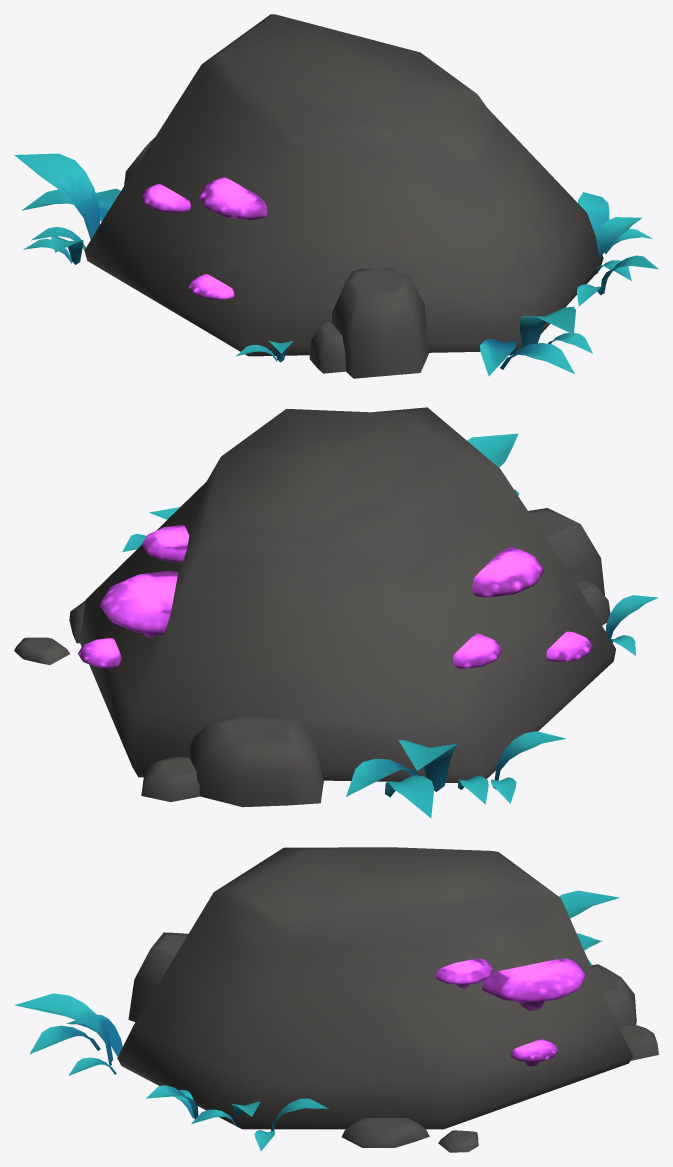
File: pedra_1.fbx
The picture shows the model from 3 angles, top to bottom: view 1: azimuth 30°, elevation 25°; view 2: azimuth 150°, elevation 25°; view 3: azimuth 270°, elevation 25°; orthographic projection. The views are drawn at different scales.
Parts seen in each view (by area): view 1: pedra_1; view 2: pedra_1; view 3: pedra_1.
Boxes of the visible parts, x1=… form: pedra_1: x1=14, y1=14, x2=658, y2=378; pedra_1: x1=14, y1=407, x2=658, y2=818; pedra_1: x1=14, y1=847, x2=658, y2=1152.
Size of the model in its own units: 187 by 68.27 by 227.
